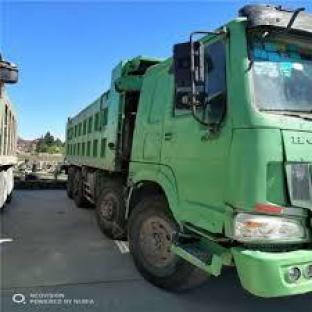Vehicle: (53, 60, 312, 299)
